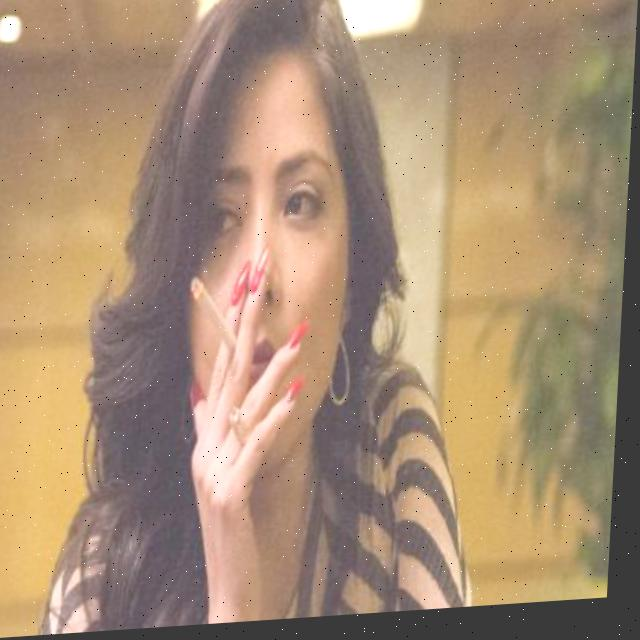cigarette: (192, 278, 245, 364)
